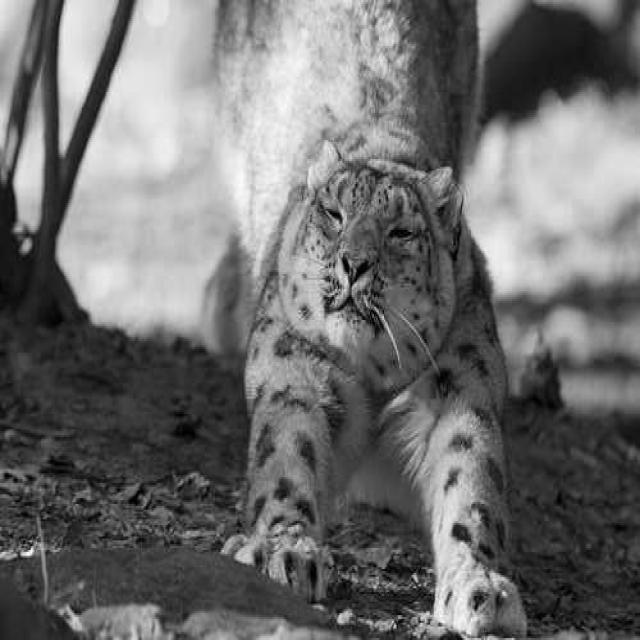Leopard: (243, 119, 534, 640)
